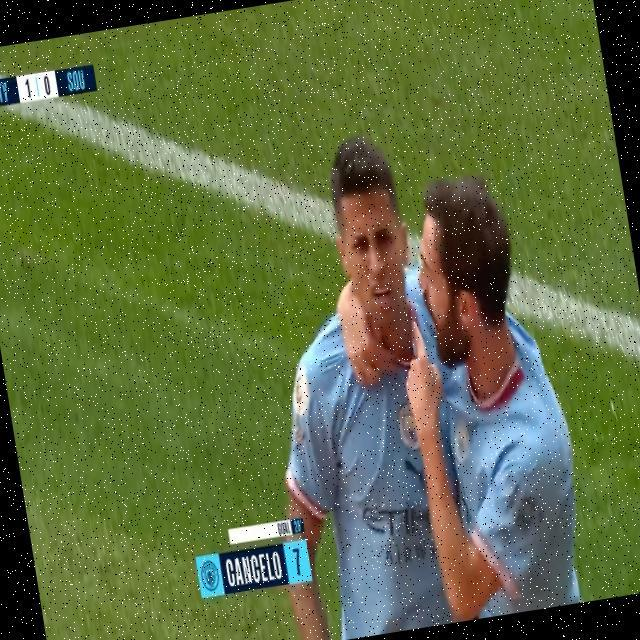Etihad Airways: (362, 496, 437, 571)
